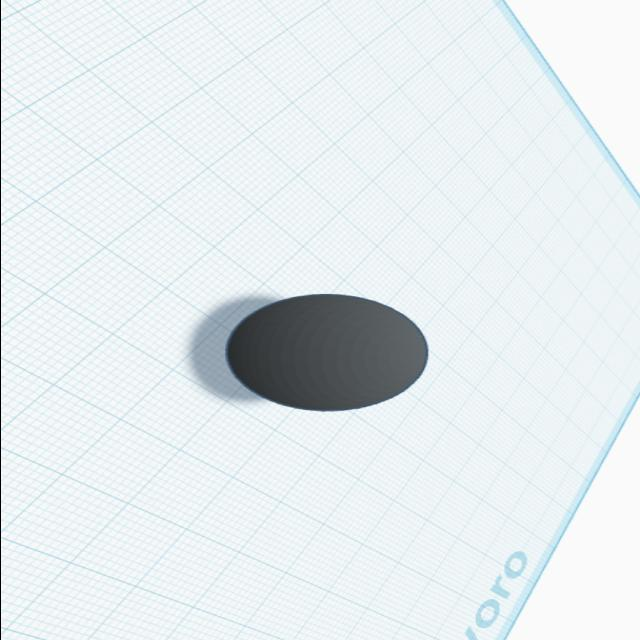sphere: (218, 291, 432, 415)
